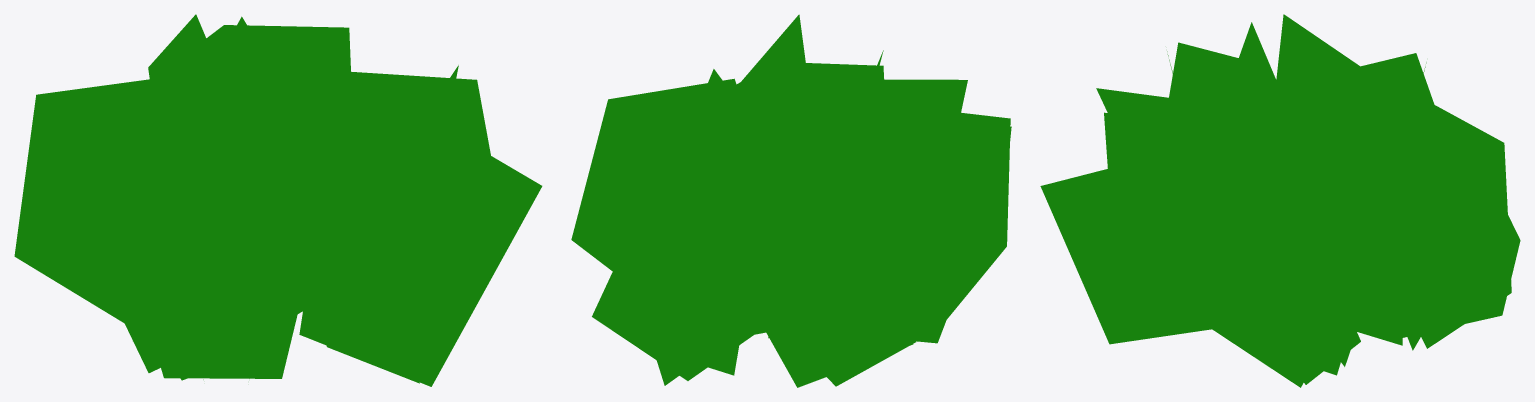
Rendered from FungiCoral_3.fbx.
The picture shows the model from 3 angles, left to right: view 1: azimuth 30°, elevation 25°; view 2: azimuth 150°, elevation 25°; view 3: azimuth 270°, elevation 25°; orthographic projection. The views are drawn at different scales.
Visible parts, largest first — view 1: FungiCoral_3; view 2: FungiCoral_3; view 3: FungiCoral_3.
Boxes of the visible parts, box(x1,y1,x2,y2) form: FungiCoral_3: box(14, 14, 542, 386); FungiCoral_3: box(571, 14, 1011, 387); FungiCoral_3: box(1040, 14, 1520, 387).
Bounding box in the file's own units: 32.76 × 22.09 × 34.82.
